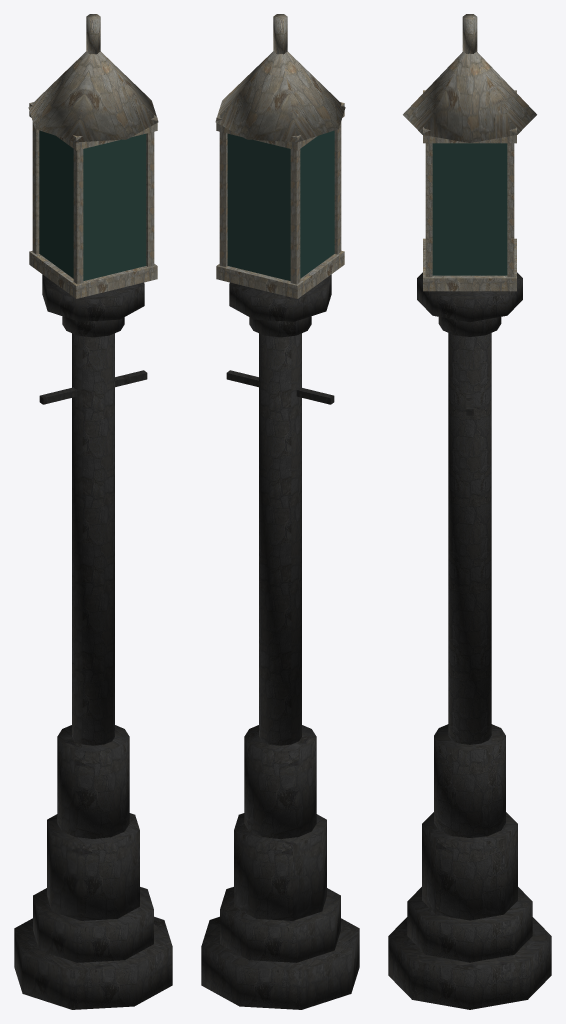
Rendered from prop_ashmoor_gaslamp.glb.
The picture shows the model from 3 angles, left to right: view 1: azimuth 30°, elevation 25°; view 2: azimuth 150°, elevation 25°; view 3: azimuth 270°, elevation 25°; orthographic projection.
Visible parts, largest first — view 1: prop_ashmoor_gaslamp; view 2: prop_ashmoor_gaslamp; view 3: prop_ashmoor_gaslamp.
Part boxes in pixels (<box>): prop_ashmoor_gaslamp: <box>14,14,172,1009</box>; prop_ashmoor_gaslamp: <box>201,14,359,1009</box>; prop_ashmoor_gaslamp: <box>388,14,551,1009</box>.
Bounding box in the file's own units: 0.68 × 4.4 × 0.68.
3 materials, 3 textured.
